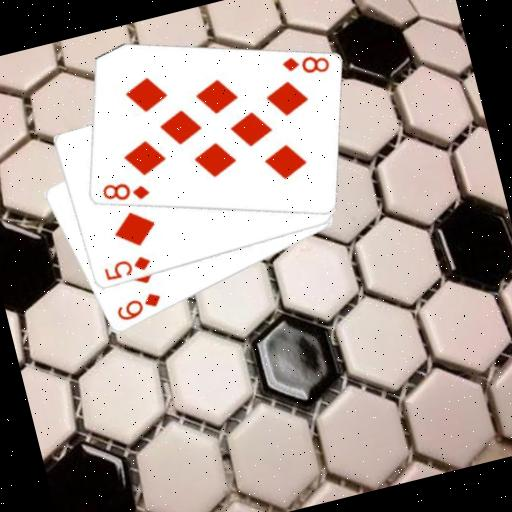5D: (100, 251, 154, 284)
6D: (111, 288, 166, 325)
8D: (97, 172, 153, 211), (277, 45, 333, 84)
